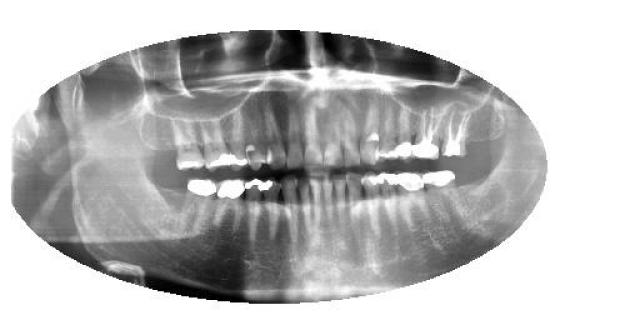Fillings: (423, 170, 465, 224), (395, 170, 430, 229), (185, 179, 216, 239), (198, 118, 232, 172), (215, 178, 245, 238), (172, 118, 202, 172), (245, 178, 264, 246), (379, 172, 399, 234), (262, 178, 282, 238), (378, 105, 398, 164), (231, 111, 250, 172), (362, 170, 380, 230), (398, 102, 412, 162)
Implant: (414, 105, 444, 160), (441, 108, 470, 162)
